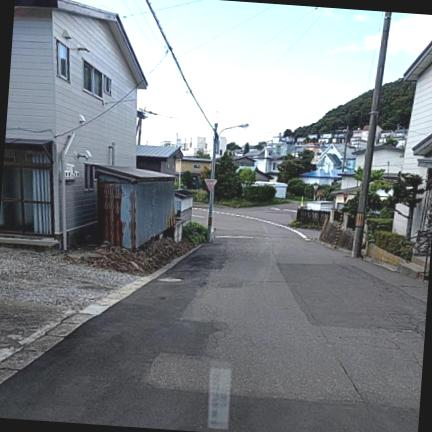Road: (0, 209, 427, 431)
